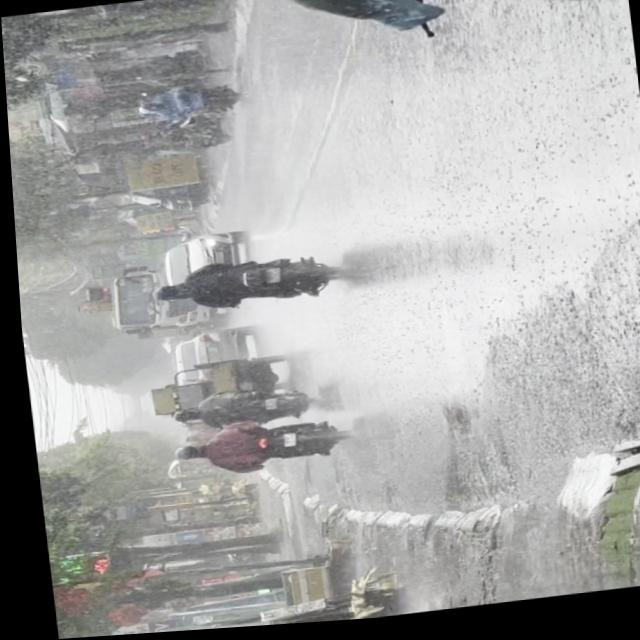helmet: (146, 283, 180, 305), (165, 444, 197, 464)
licenseplate: (0, 0, 630, 83), (142, 249, 344, 320), (162, 414, 346, 482)
nohelmet: (261, 270, 278, 286), (275, 435, 290, 450)
